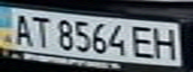4: (106, 21, 130, 57)
5: (72, 18, 93, 53)
6: (90, 20, 109, 55)
8: (54, 16, 75, 52)
A: (6, 10, 36, 46)
E: (127, 22, 160, 60)
H: (151, 25, 184, 61)
T: (27, 12, 54, 48)
